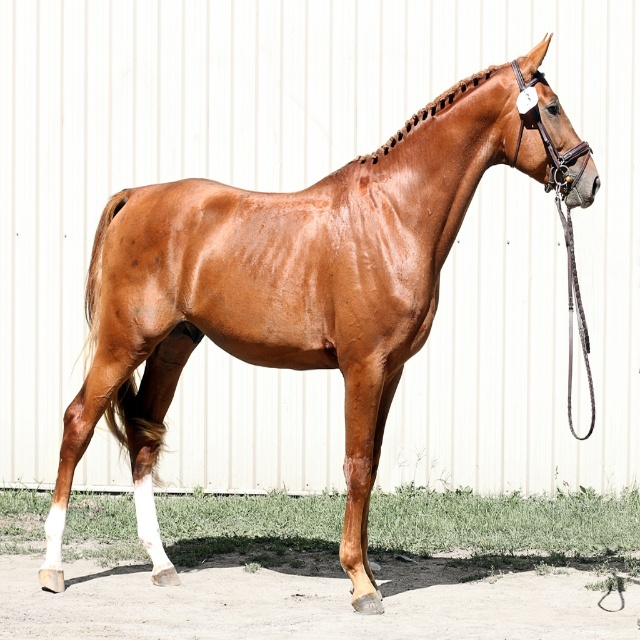Horse: (38, 33, 600, 615)
